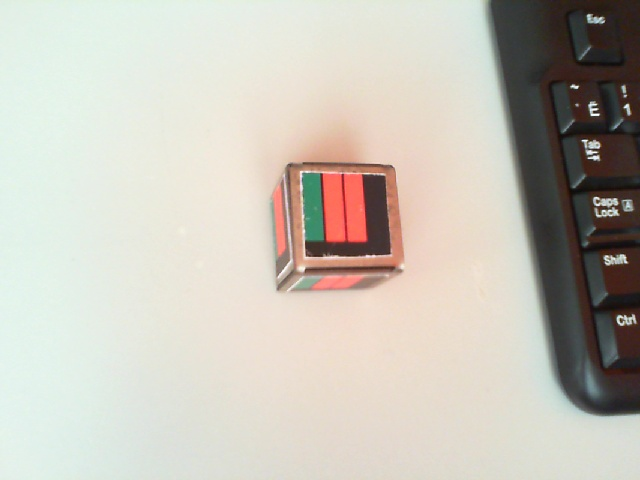square: (301, 172, 389, 256)
